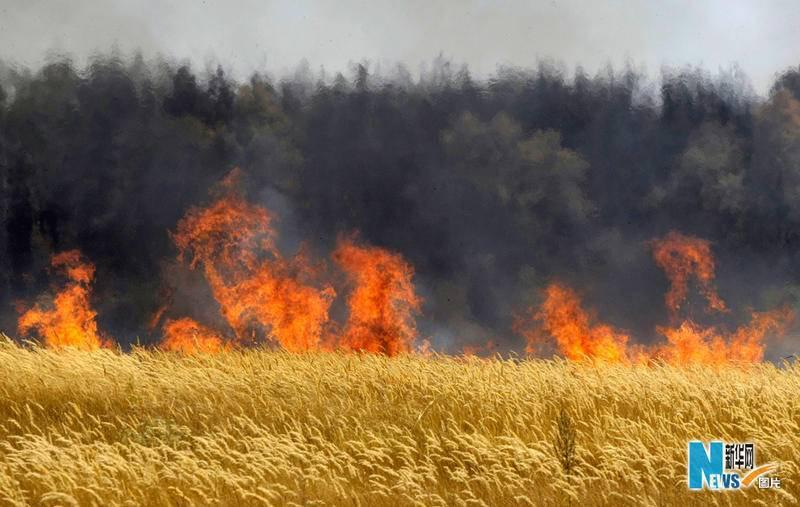fire: (155, 193, 408, 365), (529, 252, 776, 381), (19, 242, 121, 368)
